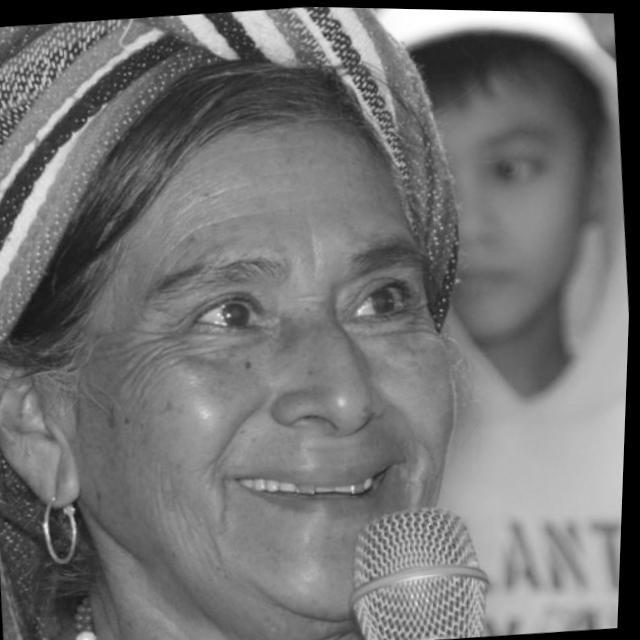Puffy Eyes - v3 Dark Circle: (202, 322, 275, 346), (353, 316, 427, 337)
